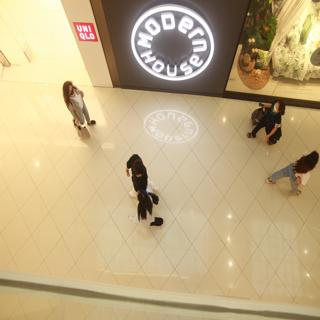person: (57, 75, 103, 144), (266, 151, 318, 199), (252, 94, 286, 144), (134, 191, 167, 233), (122, 150, 146, 191)
